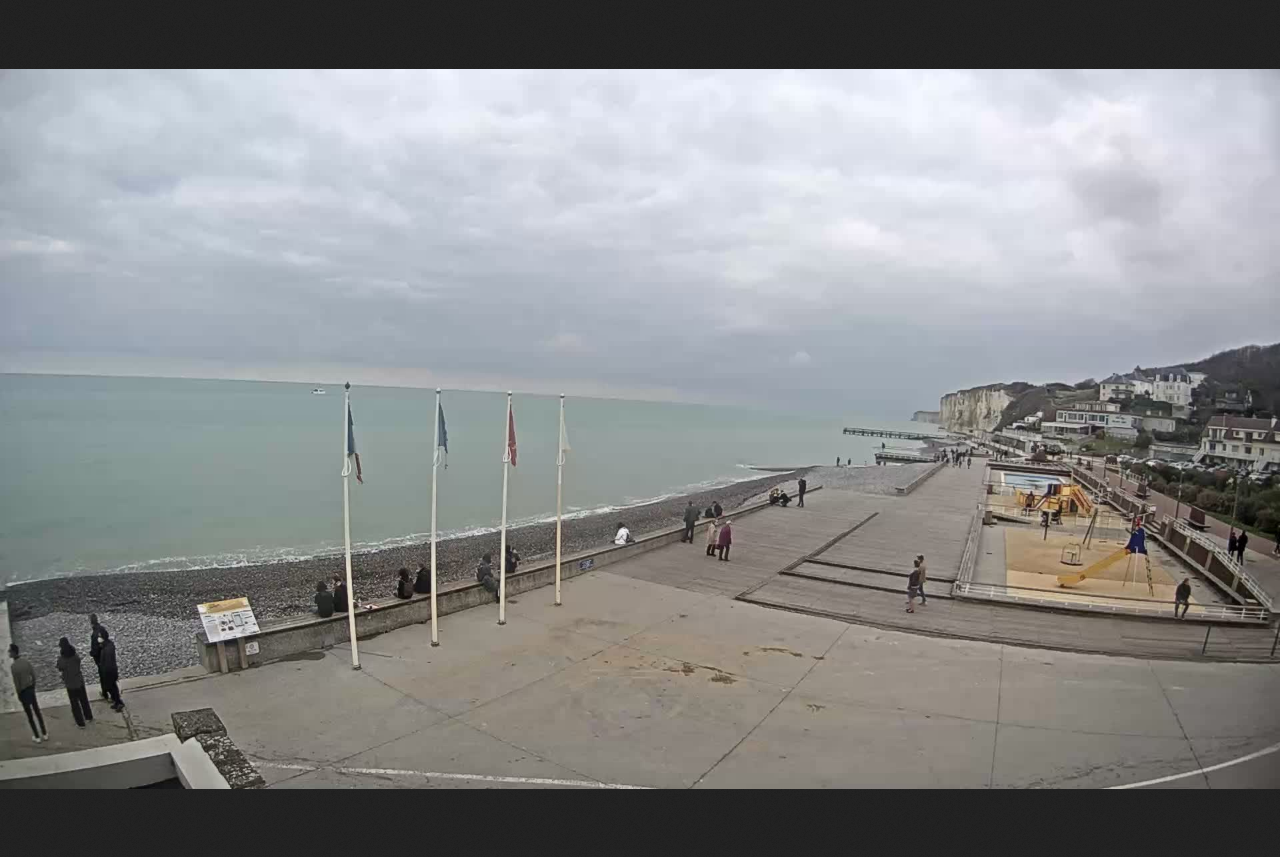no: (334, 386, 368, 484), (551, 394, 575, 470), (427, 391, 451, 465), (502, 394, 525, 466)
